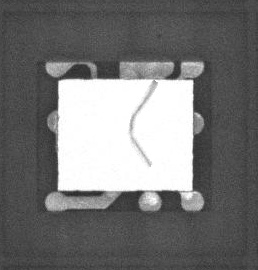DIE_INK: (121, 83, 150, 176)
